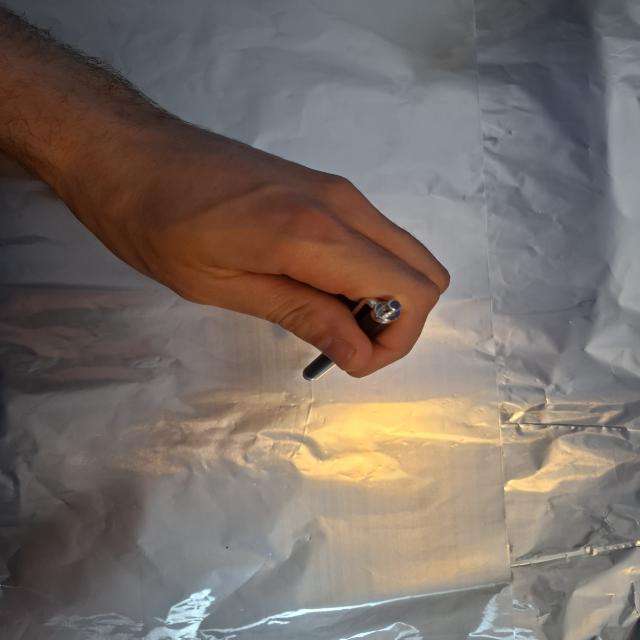glove_off: (76, 120, 454, 380)
